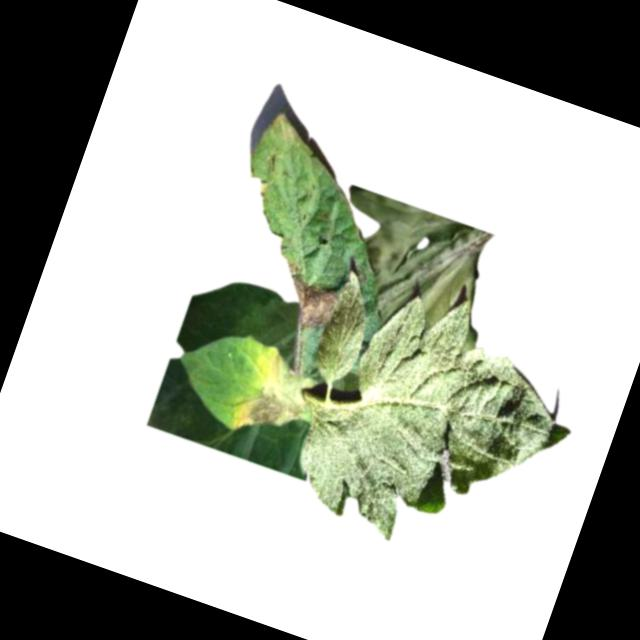Late_blight: (310, 183, 513, 353), (228, 344, 319, 448), (276, 272, 347, 340), (266, 112, 305, 146)
